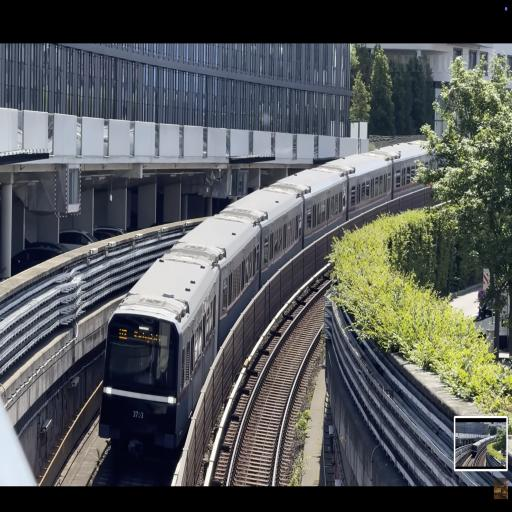X-Wagen: (98, 142, 412, 447)
